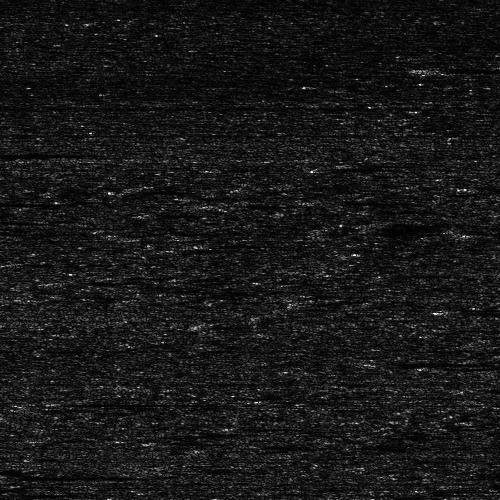rock: (393, 65, 456, 72), (421, 231, 494, 236), (187, 201, 250, 206), (355, 359, 396, 366), (481, 193, 500, 204), (448, 306, 489, 311), (0, 472, 22, 479)
shadow: (2, 472, 167, 479), (0, 196, 109, 205), (376, 359, 472, 366), (0, 148, 81, 155), (425, 65, 500, 72), (219, 201, 312, 206), (0, 468, 91, 473), (458, 231, 500, 236), (469, 306, 500, 311)
